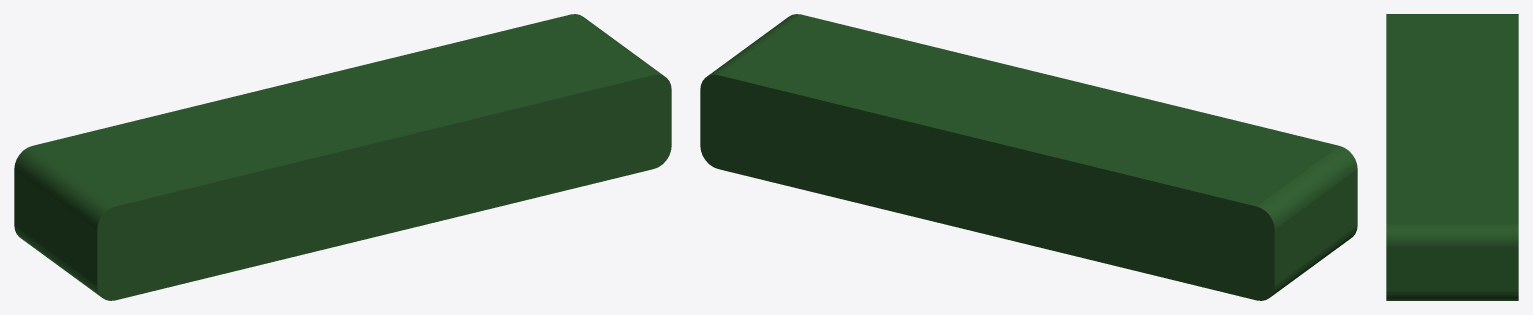
The model's file is platform.dae.
3 renders of one model, left to right at view 1: azimuth 30°, elevation 25°; view 2: azimuth 150°, elevation 25°; view 3: azimuth 270°, elevation 25°, orthographic. The views are drawn at different scales.
Visible parts, largest first — view 1: generated; view 2: generated; view 3: generated.
Part boxes in pixels (x1,y1,x2,y2): generated: (14,14,671,300); generated: (700,14,1357,300); generated: (1386,14,1518,300).
Size of the model in its own units: 32 by 5 by 8.
